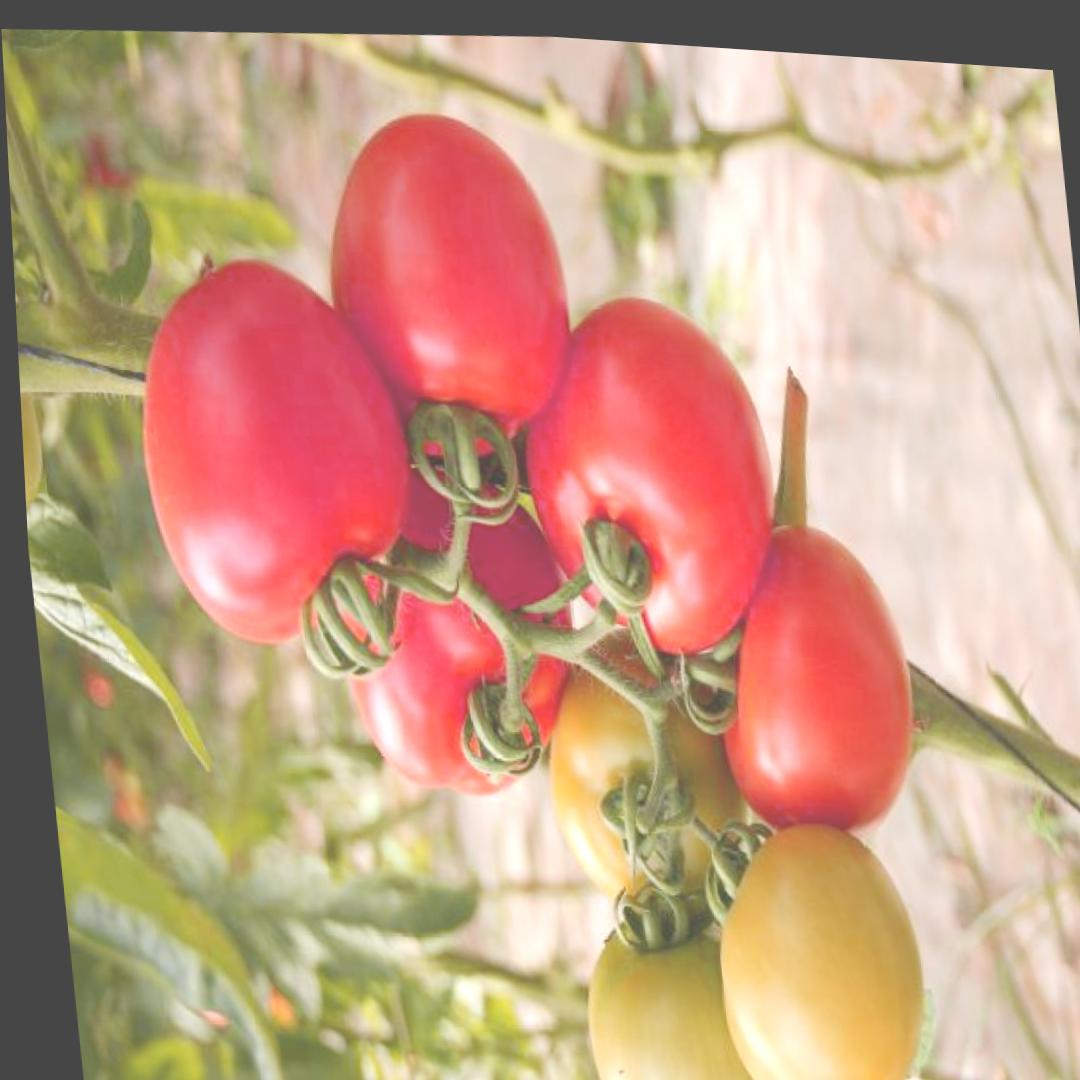matang: (123, 244, 428, 663), (508, 279, 788, 666), (313, 99, 582, 473), (331, 446, 594, 808), (696, 508, 925, 844)
mentah: (705, 807, 939, 1080), (582, 903, 791, 1080)
